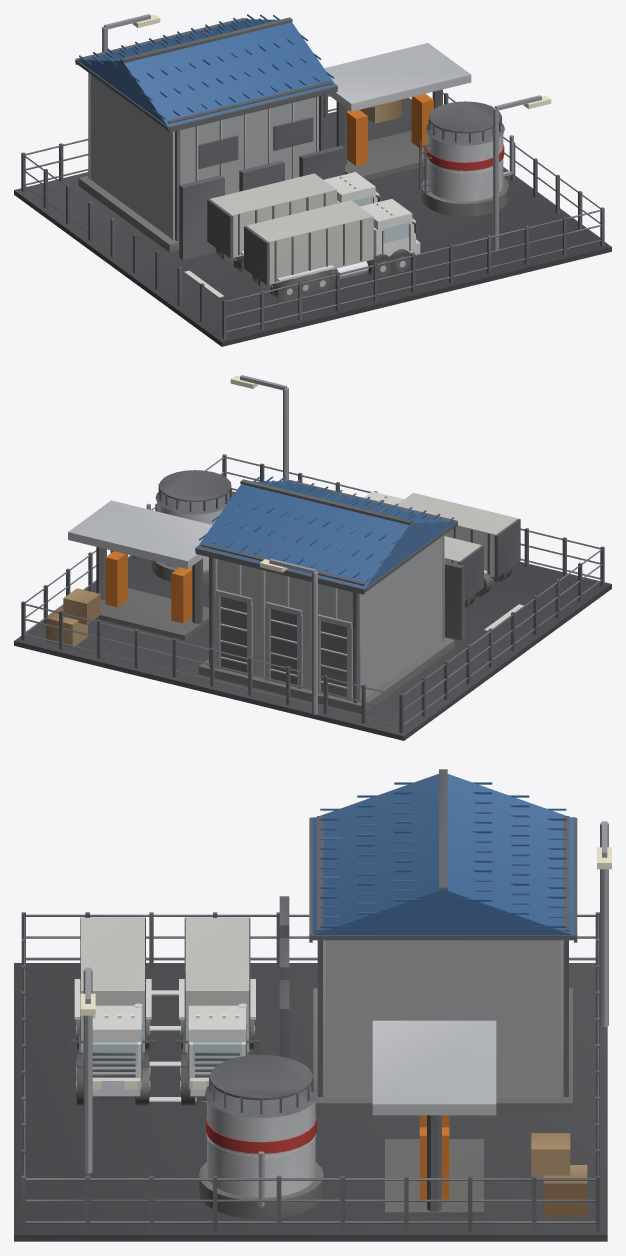
Rendered from Fleet_P2.fbx.
3 renders of one model, top to bottom at view 1: azimuth 30°, elevation 25°; view 2: azimuth 150°, elevation 25°; view 3: azimuth 270°, elevation 25°, orthographic. The views are drawn at different scales.
Parts seen in each view (by area): view 1: Fleet.Garage, Fleet.Yard, Fleet.Parked1, Fleet.FuelIsland, Fleet.Fence, Fleet.FuelTank, Fleet.Parked0, Fleet.Doors, Fleet.Lamp1, Fleet.Crates, Fleet.Lamp0; view 2: Fleet.Garage, Fleet.Yard, Fleet.FuelIsland, Fleet.Fence, Fleet.Parked1, Fleet.FuelTank, Fleet.Crates, Fleet.Doors, Fleet.Parked0, Fleet.Lamp0, Fleet.Lamp1; view 3: Fleet.Garage, Fleet.Yard, Fleet.FuelIsland, Fleet.FuelTank, Fleet.Fence, Fleet.Parked1, Fleet.Parked0, Fleet.Crates, Fleet.Lamp1, Fleet.Lamp0, Fleet.Doors, Fleet.Bays.
Boxes of the visible parts, x1,y1,x2,y2 form: Fleet.Garage: [75, 14, 337, 252]; Fleet.Yard: [14, 98, 611, 346]; Fleet.Parked1: [244, 199, 420, 303]; Fleet.FuelIsland: [324, 43, 471, 179]; Fleet.Fence: [21, 92, 604, 338]; Fleet.FuelTank: [419, 101, 513, 216]; Fleet.Parked0: [207, 172, 381, 277]; Fleet.Doors: [179, 146, 344, 259]; Fleet.Lamp1: [493, 95, 551, 250]; Fleet.Crates: [360, 99, 401, 123]; Fleet.Lamp0: [102, 14, 160, 52]; Fleet.Garage: [195, 476, 457, 713]; Fleet.Yard: [14, 491, 611, 740]; Fleet.FuelIsland: [68, 500, 212, 640]; Fleet.Fence: [21, 454, 604, 732]; Fleet.Parked1: [364, 491, 520, 596]; Fleet.FuelTank: [146, 470, 233, 584]; Fleet.Crates: [46, 588, 100, 648]; Fleet.Doors: [444, 561, 464, 640]; Fleet.Parked0: [444, 536, 483, 607]; Fleet.Lamp0: [260, 558, 317, 714]; Fleet.Lamp1: [230, 375, 288, 480]; Fleet.Garage: [309, 769, 577, 1114]; Fleet.Yard: [14, 963, 607, 1241]; Fleet.FuelIsland: [372, 1020, 496, 1219]; Fleet.FuelTank: [198, 1054, 323, 1219]; Fleet.Fence: [21, 912, 599, 1231]; Fleet.Parked1: [70, 917, 155, 1106]; Fleet.Parked0: [175, 917, 259, 1106]; Fleet.Crates: [531, 1133, 587, 1217]; Fleet.Lamp1: [80, 967, 95, 1173]; Fleet.Lamp0: [597, 821, 611, 1027]; Fleet.Doors: [279, 896, 289, 1057]; Fleet.Bays: [149, 990, 206, 1101].
Size of the model in its own units: 2600 by 1050 by 2418.
